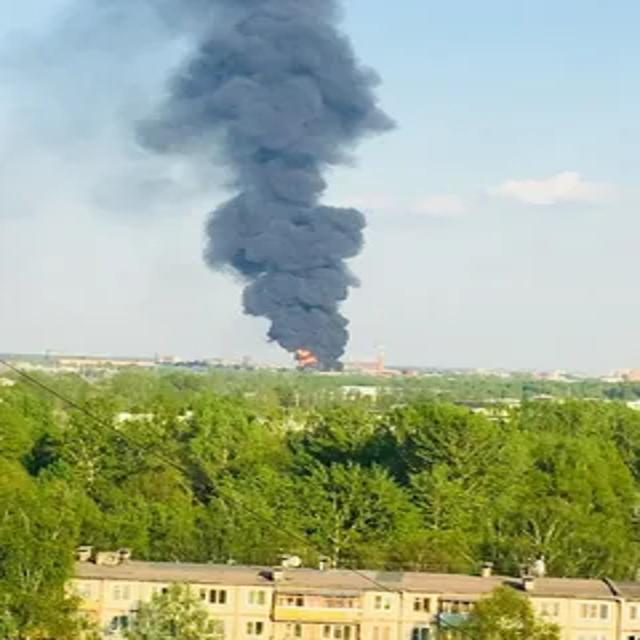Smoke: (133, 1, 394, 369)
